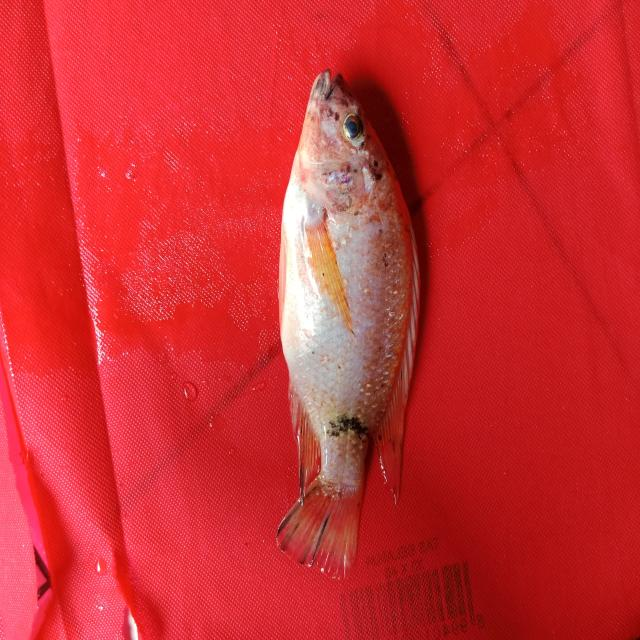ikan: (259, 69, 441, 594)
